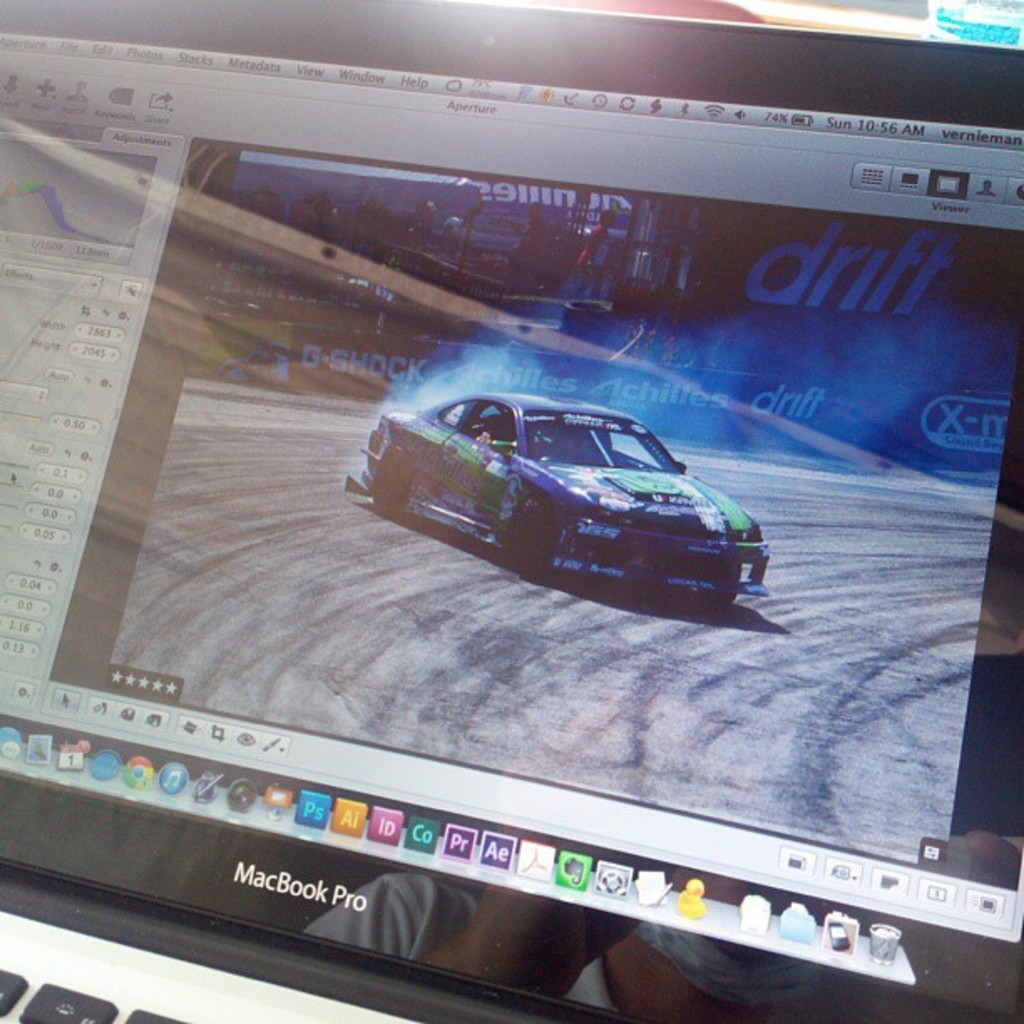cars: (339, 391, 774, 606)
